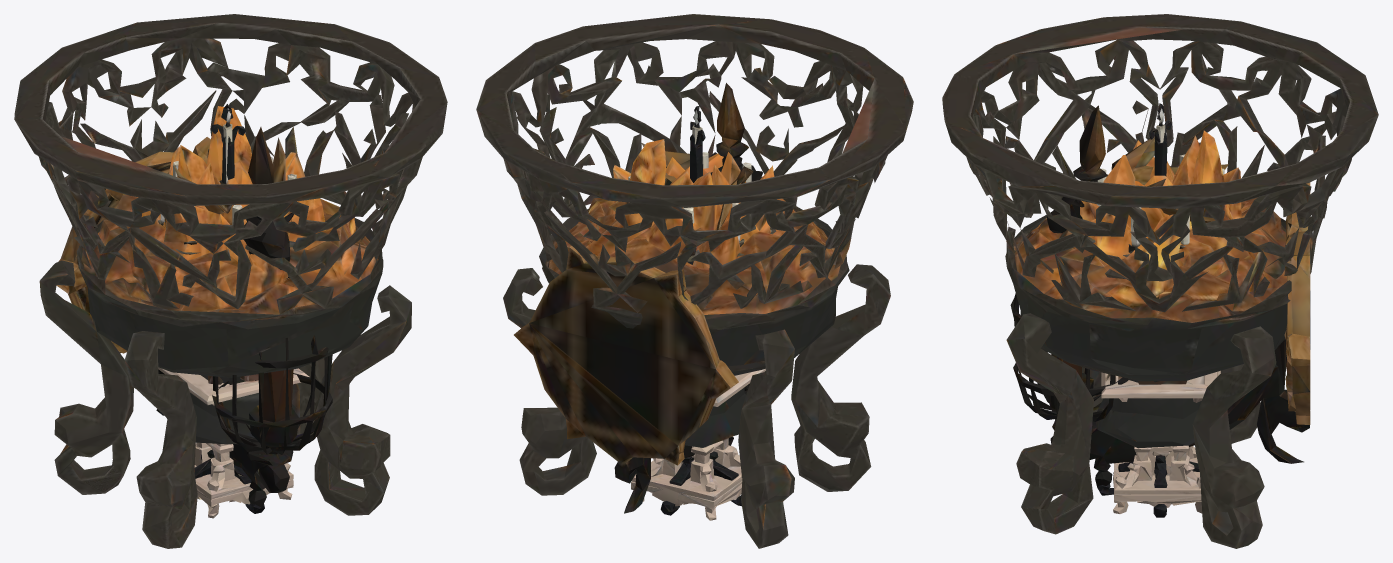
The model's file is fuoco.glb.
3 views of the same model, side by side, from view 1: azimuth 30°, elevation 25°; view 2: azimuth 150°, elevation 25°; view 3: azimuth 270°, elevation 25° (orthographic).
Visible parts, largest first — view 1: braciere, torcia, cesto, candelabro; view 2: braciere, torcia, cesto, candelabro; view 3: braciere, torcia, cesto, candelabro.
Boxes of the visible parts, x1,y1,x2,y2 form: braciere: (14,14,447,548); torcia: (56,127,332,510); cesto: (158,104,309,518); candelabro: (158,105,296,513); braciere: (476,14,913,548); torcia: (514,83,762,513); cesto: (631,105,765,520); candelabro: (628,109,776,515); braciere: (942,14,1378,548); torcia: (1010,105,1310,490); cesto: (1101,103,1220,513); candelabro: (1087,104,1224,517).
Size of the model in its own units: 1.01 by 1 by 1.02.
Materials: 4 (4 with a texture image).
